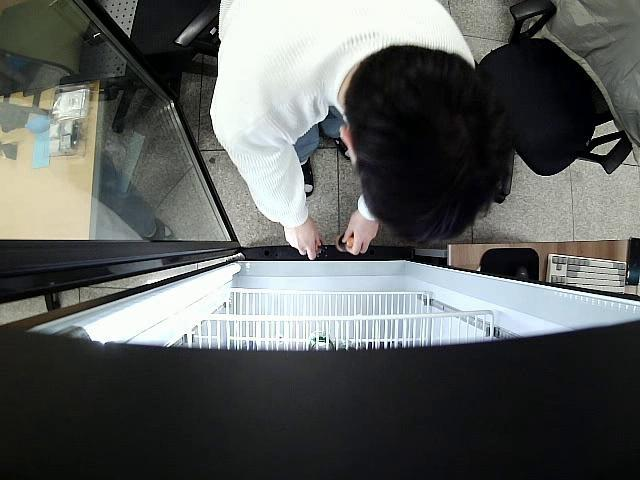17_vita500: (334, 230, 356, 256)
